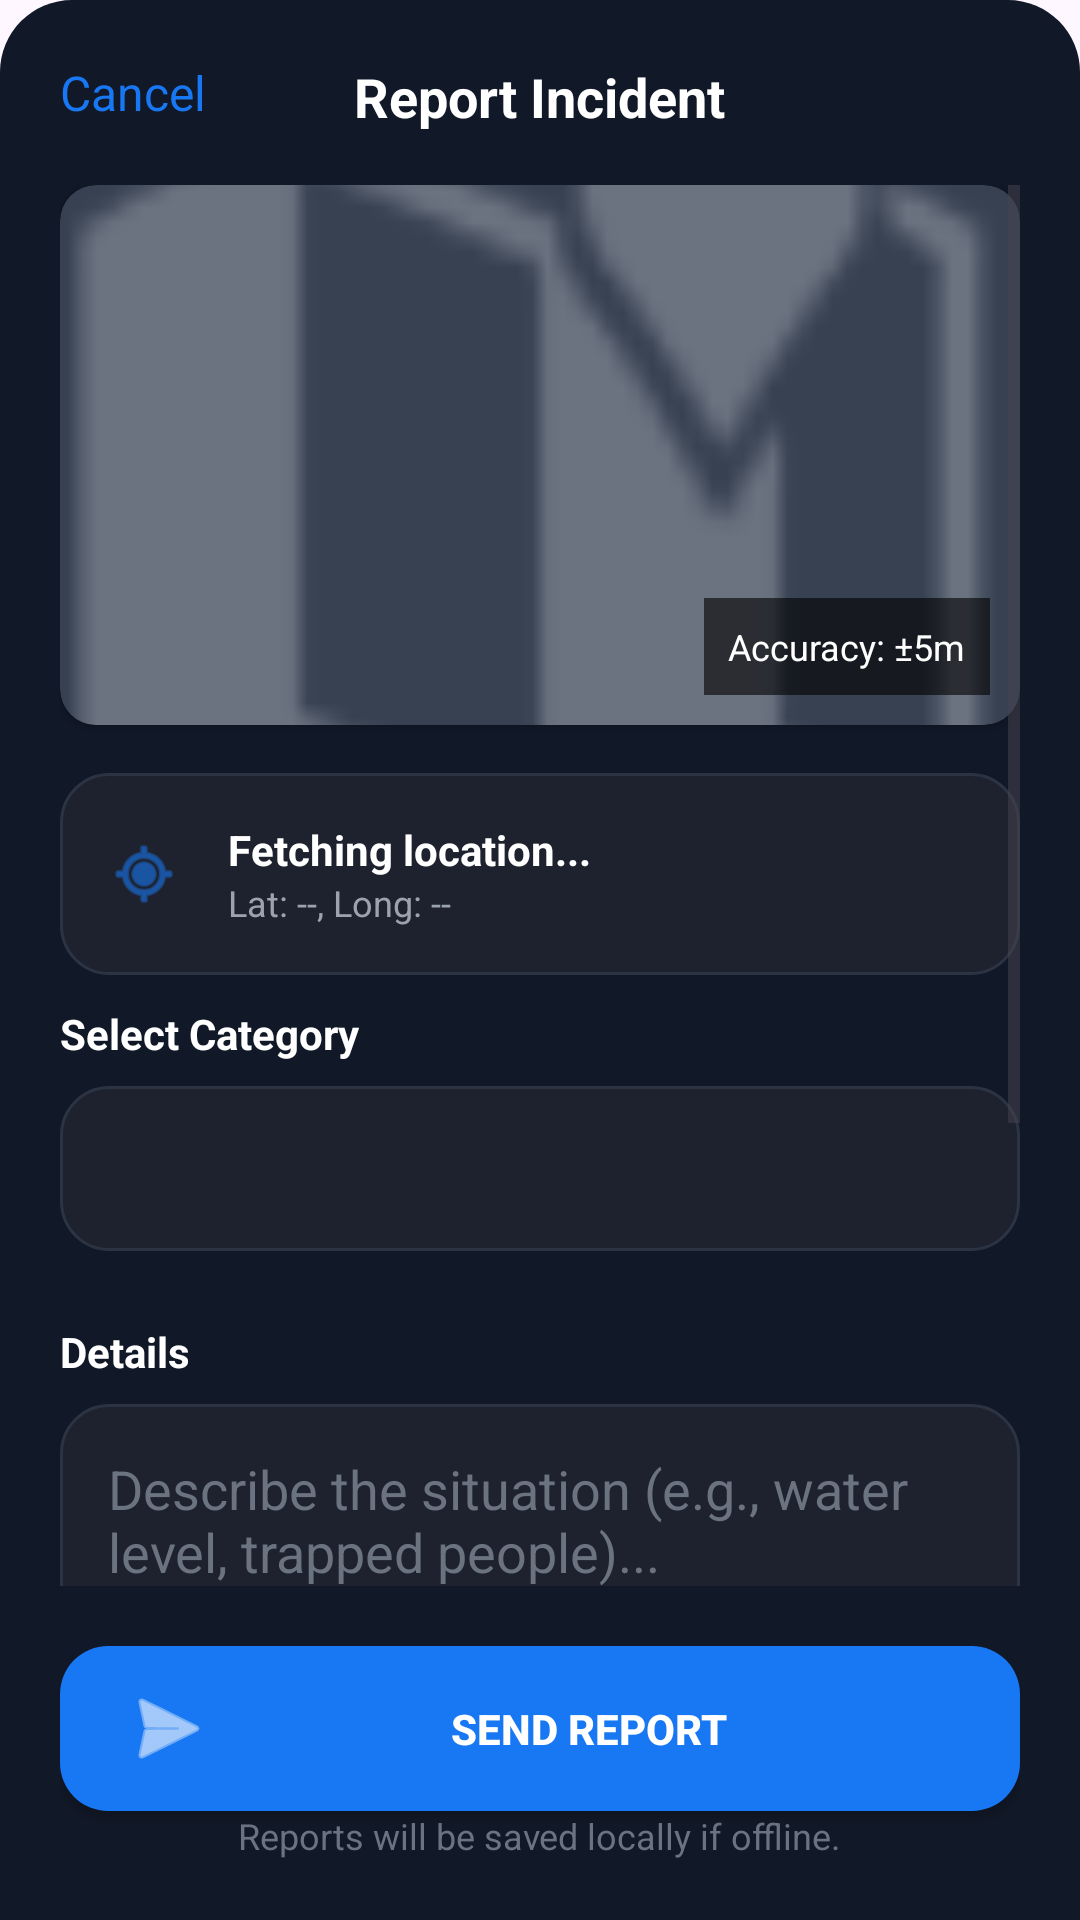

Where to tap for icons on this 1080px×1920px app screen, as [x,y]:
mylocation: [144,874]
